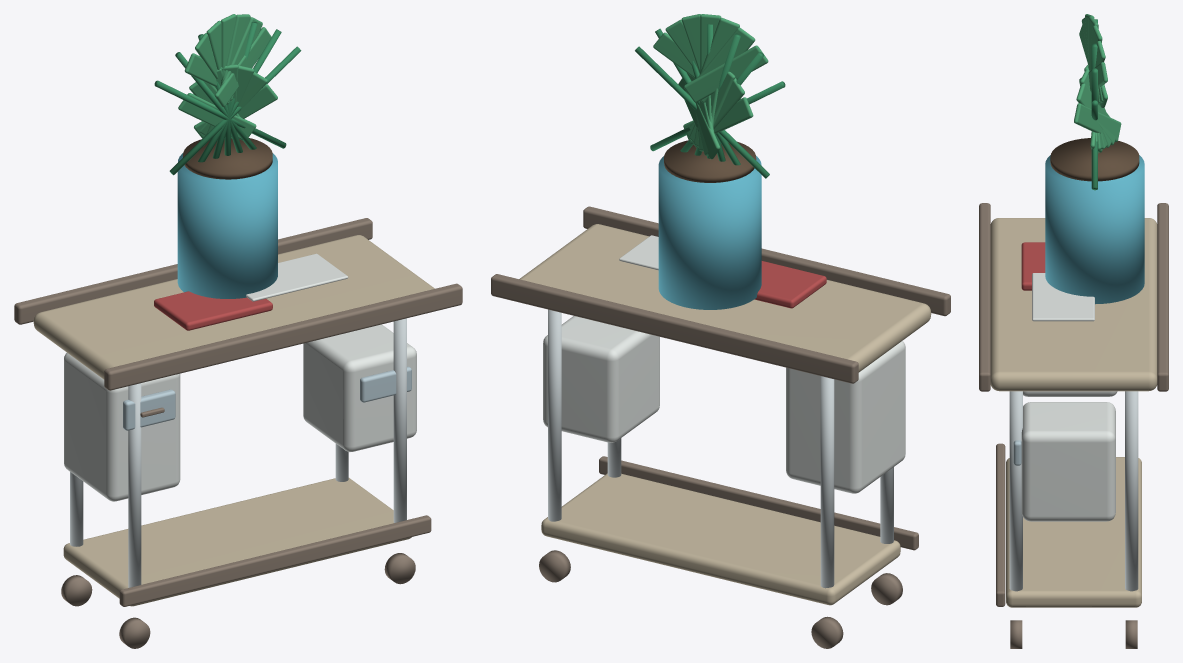
Rendered from bedside_stand_unity.glb.
The picture shows the model from 3 angles, left to right: view 1: azimuth 30°, elevation 25°; view 2: azimuth 150°, elevation 25°; view 3: azimuth 270°, elevation 25°; orthographic projection. The views are drawn at different scales.
Parts seen in each view (by area): view 1: thin tabletop slab, lower shelf, blue cylindrical plant pot, left hanging cabinet body, right hanging cabinet body, dark front table edge, lower shelf dark front edge, dark back table edge, small red book on table, slender metal table leg.002, slender metal table leg, dark soil disk (+13 smaller); view 2: lower shelf, thin tabletop slab, blue cylindrical plant pot, left hanging cabinet body, right hanging cabinet body, dark back table edge, dark front table edge, lower shelf dark front edge, slender metal table leg.001, slender metal table leg.003, dark soil disk, small red book on table (+13 smaller); view 3: thin tabletop slab, blue cylindrical plant pot, right hanging cabinet body, lower shelf, slender metal table leg.003, dark soil disk, slender metal table leg.002, dark front table edge, dark back table edge, thin paper sheet, lower shelf dark front edge, small red book on table (+7 smaller).
Boxes of the visible parts, left/top/right/bottom form: thin tabletop slab: left=33, top=235, right=434, bottom=379; lower shelf: left=63, top=478, right=411, bottom=606; blue cylindrical plant pot: left=177, top=153, right=277, bottom=298; left hanging cabinet body: left=64, top=353, right=180, bottom=501; right hanging cabinet body: left=303, top=324, right=416, bottom=452; dark front table edge: left=104, top=283, right=462, bottom=390; lower shelf dark front edge: left=119, top=515, right=431, bottom=606; dark back table edge: left=14, top=218, right=372, bottom=324; small red book on table: left=154, top=291, right=272, bottom=330; slender metal table leg.002: left=393, top=318, right=406, bottom=522; slender metal table leg: left=128, top=383, right=141, bottom=587; dark soil disk: left=183, top=138, right=272, bottom=179; lower shelf: left=541, top=473, right=900, bottom=605; thin tabletop slab: left=519, top=224, right=931, bottom=372; blue cylindrical plant pot: left=658, top=156, right=761, bottom=309; left hanging cabinet body: left=786, top=341, right=905, bottom=493; right hanging cabinet body: left=543, top=316, right=659, bottom=442; dark back table edge: left=491, top=274, right=858, bottom=383; dark front table edge: left=583, top=206, right=950, bottom=316; lower shelf dark front edge: left=599, top=456, right=918, bottom=550; slender metal table leg.001: left=820, top=376, right=834, bottom=588; slender metal table leg.003: left=548, top=309, right=561, bottom=521; dark soil disk: left=664, top=140, right=756, bottom=182; small red book on table: left=754, top=261, right=826, bottom=308; thin tabletop slab: left=990, top=218, right=1157, bottom=391; blue cylindrical plant pot: left=1045, top=155, right=1144, bottom=304; right hanging cabinet body: left=1021, top=402, right=1115, bottom=521; lower shelf: left=1006, top=457, right=1141, bottom=607; slender metal table leg.003: left=1125, top=391, right=1138, bottom=591; dark soil disk: left=1050, top=138, right=1139, bottom=181; slender metal table leg.002: left=1009, top=391, right=1022, bottom=591; dark front table edge: left=979, top=203, right=990, bottom=391; dark back table edge: left=1157, top=203, right=1168, bottom=391; thin paper sheet: left=1032, top=273, right=1094, bottom=321; lower shelf dark front edge: left=996, top=443, right=1005, bottom=606; small red book on table: left=1021, top=242, right=1045, bottom=290.
Size of the model in its own units: 1.16 by 1.78 by 0.5437.
